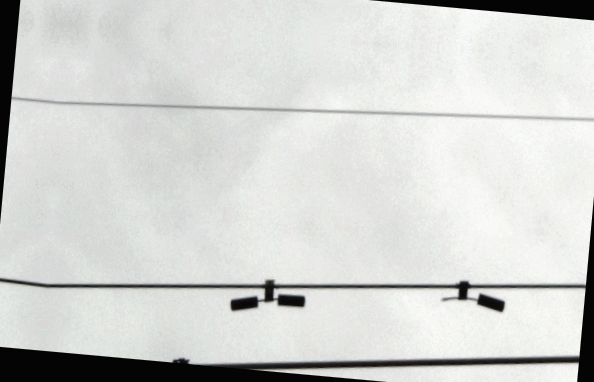damper: (228, 276, 307, 312)
damper_defect: (435, 280, 507, 314)
